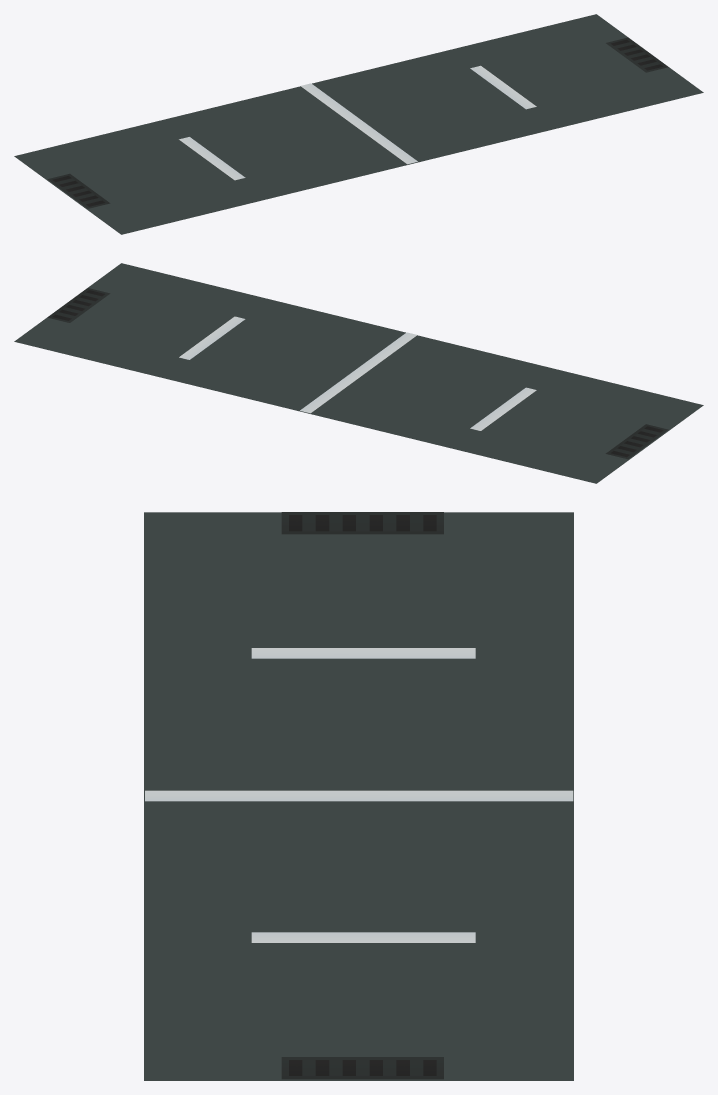
The model's file is Road_2_207.fbx.
The picture shows the model from 3 angles, top to bottom: view 1: azimuth 30°, elevation 25°; view 2: azimuth 150°, elevation 25°; view 3: azimuth 270°, elevation 25°; orthographic projection. The views are drawn at different scales.
Visible parts, largest first — view 1: Road_2_207; view 2: Road_2_207; view 3: Road_2_207.
Part boxes in pixels (x1,y1,x2,y2): Road_2_207: (14, 14, 703, 234); Road_2_207: (14, 263, 703, 483); Road_2_207: (144, 512, 573, 1080).
Size of the model in its own units: 1800 by 1.66 by 575.
